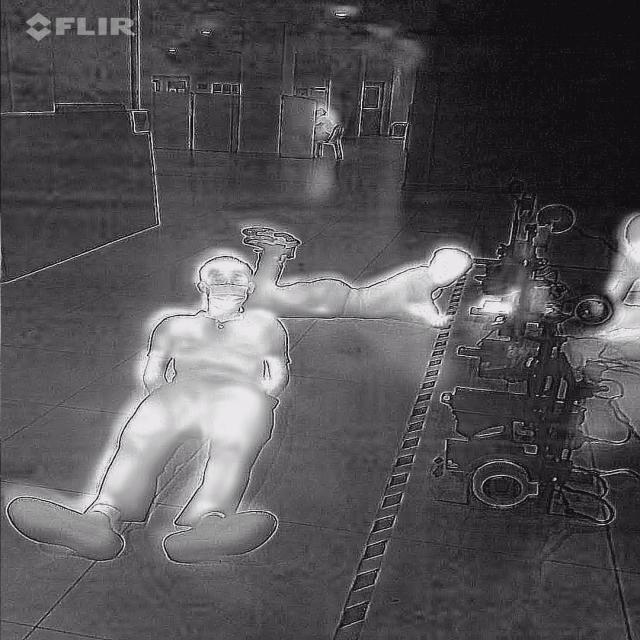Victim: (9, 245, 282, 576), (230, 224, 493, 328), (564, 199, 640, 342)
